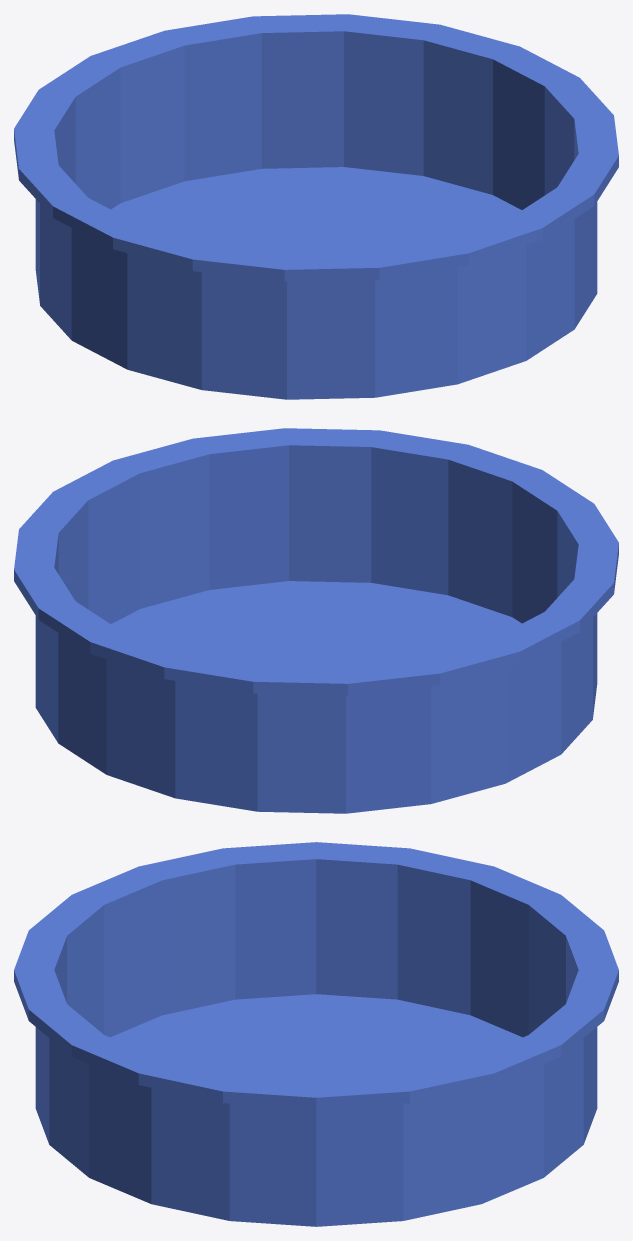
The model's file is Tarai_3DModel.fbx.
3 views of the same model, one above another, from view 1: azimuth 30°, elevation 25°; view 2: azimuth 150°, elevation 25°; view 3: azimuth 270°, elevation 25° (orthographic).
Parts seen in each view (by area): view 1: TARAI; view 2: TARAI; view 3: TARAI.
Boxes of the visible parts, left/top/right/bottom form: TARAI: left=14, top=14, right=618, bottom=399; TARAI: left=14, top=428, right=618, bottom=813; TARAI: left=14, top=842, right=618, bottom=1226.
Bounding box in the file's own units: 0.1389 × 0.035 × 0.1389.
